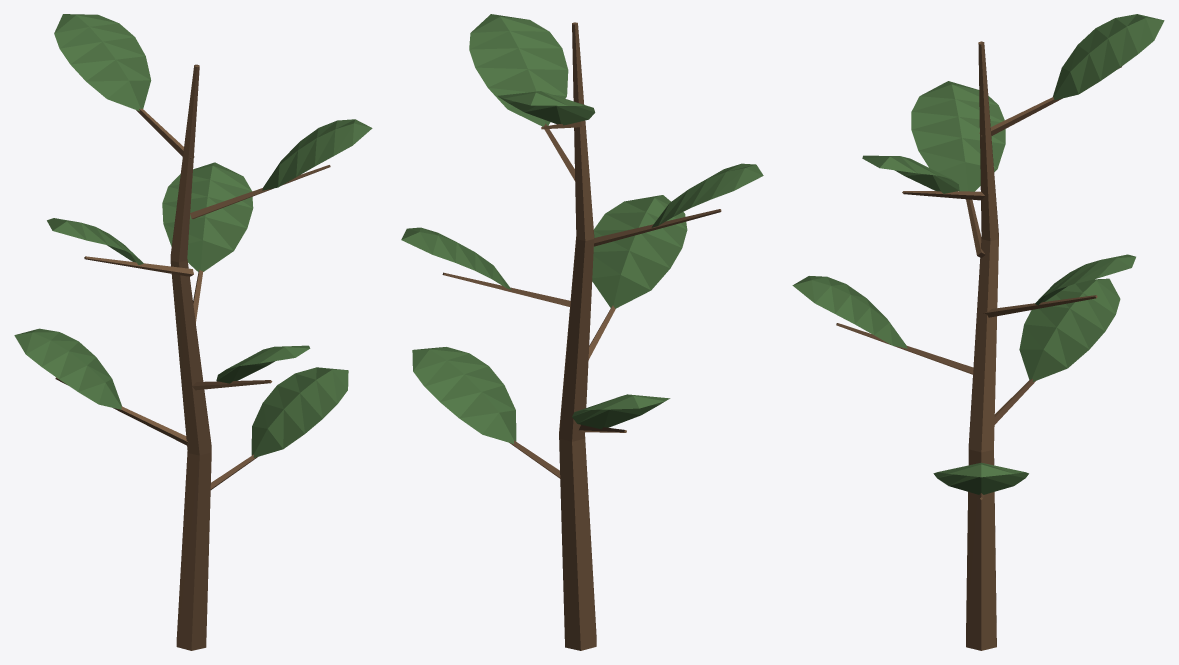
The model's file is oak_sapling.glb.
3 views of the same model, side by side, from view 1: azimuth 30°, elevation 25°; view 2: azimuth 150°, elevation 25°; view 3: azimuth 270°, elevation 25° (orthographic). The views are drawn at different scales.
Parts seen in each view (by area): view 1: leaves, branches; view 2: leaves, branches; view 3: leaves, branches.
Part boxes in pixels (x1,y1,x2,y2): leaves: [14, 14, 372, 457]; branches: [55, 64, 330, 650]; leaves: [401, 14, 763, 443]; branches: [442, 22, 721, 650]; leaves: [792, 14, 1164, 494]; branches: [836, 41, 1121, 650].
Size of the model in its own units: 0.3374 by 0.6 by 0.3335.
